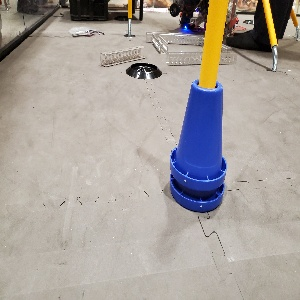Blue_2: (170, 77, 227, 212)
